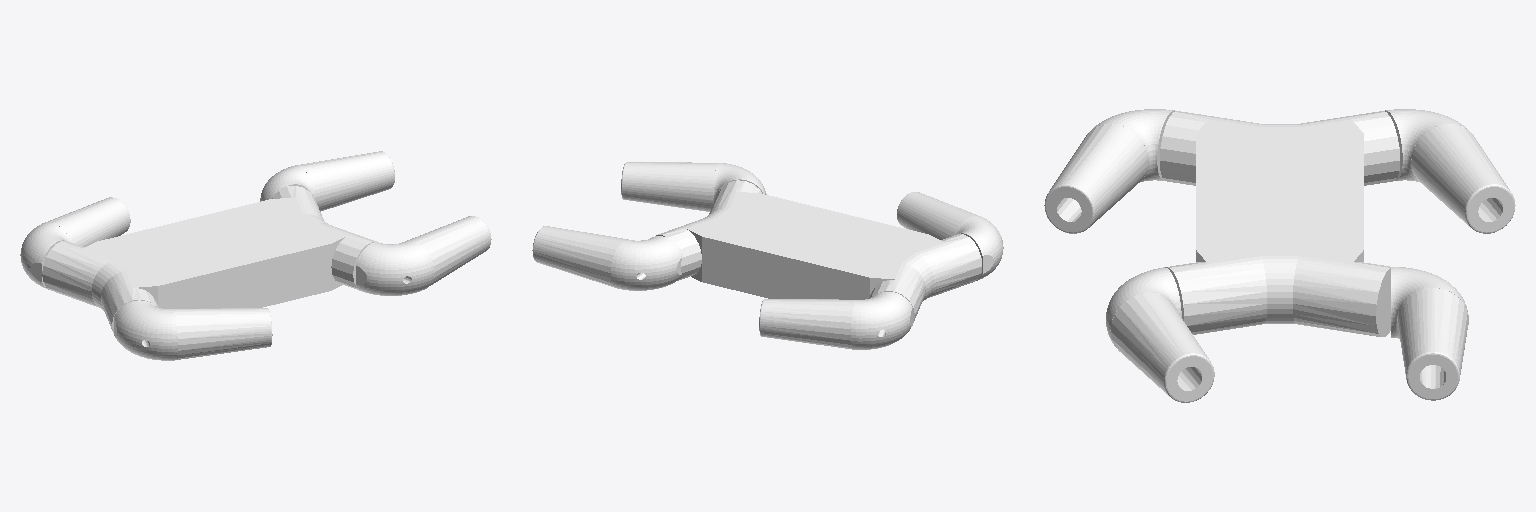
The robot description file, URDF, robot "20_degree":
<?xml version="1.0" encoding="utf-8"?>
<!-- This URDF was automatically created by SolidWorks to URDF Exporter! Originally created by [author] ([email redacted]) 
     Commit Version: 1.5.1-0-g916b5db  Build Version: 1.5.7152.31018
     For more information, please see http://wiki.ros.org/sw_urdf_exporter -->
<robot
  name="20_degree">
  <link
    name="base_link">
    <inertial>
      <origin
        xyz="-2.0817E-17 4.343E-08 1.0581E-08"
        rpy="0 0 0" />
      <mass
        value="2.942" />
      <inertia
        ixx="0.0097782"
        ixy="1.259E-07"
        ixz="-1.5417E-10"
        iyy="0.0454356"
        iyz="2.4474E-18"
        izz="0.0528029" />
    </inertial>
    <visual>
      <origin
        xyz="0 0 0"
        rpy="0 0 0" />
      <geometry>
        <mesh
          filename="package://20_degree/meshes/base_link.STL" />
      </geometry>
      <material
        name="">
        <color
          rgba="1 1 1 1" />
      </material>
    </visual>
    <collision>
      <origin
        xyz="0 0 0"
        rpy="0 0 0" />
      <geometry>
        <mesh
          filename="package://20_degree/meshes/base_link.STL" />
      </geometry>
    </collision>
  </link>
  <link
    name="left_front_link">
    <inertial>
      <origin
        xyz="-9.7736E-08 0.065722 -0.0144"
        rpy="0 0 0" />
      <mass
        value="0.092" />
      <inertia
        ixx="0.0002604"
        ixy="4.1825E-10"
        ixz="9.1426E-10"
        iyy="0.0000620"
        iyz="-0.0000485"
        izz="0.0002481" />
    </inertial>
    <visual>
      <origin
        xyz="0 0 0"
        rpy="0 0 0" />
      <geometry>
        <mesh
          filename="package://20_degree/meshes/left_front_link.STL" />
      </geometry>
      <material
        name="">
        <color
          rgba="1 1 1 1" />
      </material>
    </visual>
    <collision>
      <origin
        xyz="0 0 0"
        rpy="0 0 0" />
      <geometry>
        <mesh
          filename="package://20_degree/meshes/left_front_link.STL" />
      </geometry>
    </collision>
  </link>
  <joint
    name="left_front_leg"
    type="continuous">
    <origin
      xyz="0.16523 0.096788 0"
      rpy="1.5708 1.5708 0" />
    <parent
      link="base_link" />
    <child
      link="left_front_link" />
    <axis
      xyz="0 0.34202 -0.93969" />
    <limit
      effort="5"
      velocity="487" />
  </joint>
  <link
    name="right_front_link">
    <inertial>
      <origin
        xyz="9.7736E-08 0.065722 0.0144"
        rpy="0 0 0" />
      <mass
        value="0.092" />
      <inertia
        ixx="0.0002604"
        ixy="-4.1825E-10"
        ixz="9.1426E-10"
        iyy="0.0000620"
        iyz="0.0000485"
        izz="0.0002481" />
    </inertial>
    <visual>
      <origin
        xyz="0 0 0"
        rpy="0 0 0" />
      <geometry>
        <mesh
          filename="package://20_degree/meshes/right_front_link.STL" />
      </geometry>
      <material
        name="">
        <color
          rgba="1 1 1 1" />
      </material>
    </visual>
    <collision>
      <origin
        xyz="0 0 0"
        rpy="0 0 0" />
      <geometry>
        <mesh
          filename="package://20_degree/meshes/right_front_link.STL" />
      </geometry>
    </collision>
  </link>
  <joint
    name="right_front_leg"
    type="continuous">
    <origin
      xyz="0.16523 -0.096788 0"
      rpy="1.5708 1.5708 0" />
    <parent
      link="base_link" />
    <child
      link="right_front_link" />
    <axis
      xyz="0 0.34202 0.93969" />
    <limit
      effort="5"
      velocity="487" />
  </joint>
  <link
    name="right_back_link">
    <inertial>
      <origin
        xyz="8.636E-08 0.056834 0.03601"
        rpy="0 0 0" />
      <mass
        value="0.092" />
      <inertia
        ixx="0.0002604"
        ixy="-4.9087E-10"
        ixz="5.9399E-10"
        iyy="0.0000526"
        iyz="-2.27E-05"
        izz="0.0002575" />
    </inertial>
    <visual>
      <origin
        xyz="0 0 0"
        rpy="0 0 0" />
      <geometry>
        <mesh
          filename="package://20_degree/meshes/right_back_link.STL" />
      </geometry>
      <material
        name="">
        <color
          rgba="1 1 1 1" />
      </material>
    </visual>
    <collision>
      <origin
        xyz="0 0 0"
        rpy="0 0 0" />
      <geometry>
        <mesh
          filename="package://20_degree/meshes/right_back_link.STL" />
      </geometry>
    </collision>
  </link>
  <joint
    name="right_back_leg"
    type="continuous">
    <origin
      xyz="-0.16523 -0.096788 0"
      rpy="0.34907 1.5708 -1.5708" />
    <parent
      link="base_link" />
    <child
      link="right_back_link" />
    <axis
      xyz="0 0 1" />
    <limit
      effort="5"
      velocity="487" />
  </joint>
  <link
    name="left_back_link">
    <inertial>
      <origin
        xyz="-8.636E-08 0.04109 -0.053277"
        rpy="0 0 0" />
      <mass
        value="0.092" />
      <inertia
        ixx="0.0002604"
        ixy="6.6442E-10"
        ixz="3.9028E-10"
        iyy="0.0000911"
        iyz="0.0000832"
        izz="0.0002190" />
    </inertial>
    <visual>
      <origin
        xyz="0 0 0"
        rpy="0 0 0" />
      <geometry>
        <mesh
          filename="package://20_degree/meshes/left_back_link.STL" />
      </geometry>
      <material
        name="">
        <color
          rgba="1 1 1 1" />
      </material>
    </visual>
    <collision>
      <origin
        xyz="0 0 0"
        rpy="0 0 0" />
      <geometry>
        <mesh
          filename="package://20_degree/meshes/left_back_link.STL" />
      </geometry>
    </collision>
  </link>
  <joint
    name="left_back_leg"
    type="continuous">
    <origin
      xyz="-0.16523 0.096788 0"
      rpy="1.5708 1.5708 0" />
    <parent
      link="base_link" />
    <child
      link="left_back_link" />
    <axis
      xyz="0 -0.34202 -0.93969" />
    <limit
      effort="5"
      velocity="487" />
  </joint>
</robot>

--- Render facts (derived) ---
3 views of the same robot in one strip: view 1: azimuth 30°, elevation 25°; view 2: azimuth 150°, elevation 25°; view 3: azimuth 270°, elevation 25° (orthographic).
Model 20_degree with 5 links and 4 joints (4 continuous), rooted at base_link, posed every joint at zero.
Visible links, largest first — view 1: base_link, right_back_link, right_front_link, left_front_link, left_back_link; view 2: base_link, left_back_link, left_front_link, right_front_link, right_back_link; view 3: base_link, left_back_link, right_back_link, right_front_link, left_front_link.
Boxes of the visible links, <box> form: base_link: <box>42,186,376,332</box>; right_back_link: <box>114,300,272,360</box>; right_front_link: <box>356,216,491,295</box>; left_front_link: <box>260,151,394,211</box>; left_back_link: <box>20,197,130,289</box>; base_link: <box>656,180,981,322</box>; left_back_link: <box>759,292,912,349</box>; left_front_link: <box>532,226,682,290</box>; right_front_link: <box>621,162,766,211</box>; right_back_link: <box>897,192,1003,280</box>; base_link: <box>1160,111,1399,336</box>; left_back_link: <box>1385,109,1515,233</box>; right_back_link: <box>1044,109,1174,233</box>; right_front_link: <box>1106,267,1214,402</box>; left_front_link: <box>1391,267,1468,400</box>.
Bounding box of the posed robot: 0.5354 × 0.4213 × 0.064 m (x, y, z).
5 mesh visuals loaded from 5 distinct referenced files (5 binary STL).